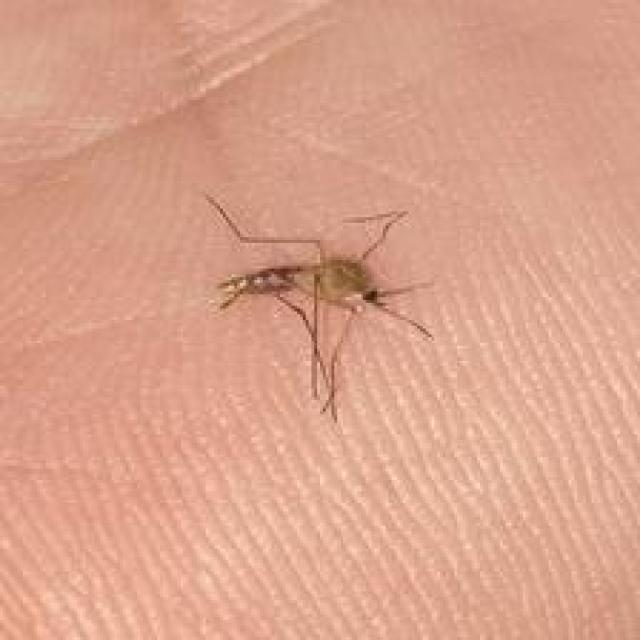Culex: (204, 191, 436, 423)
